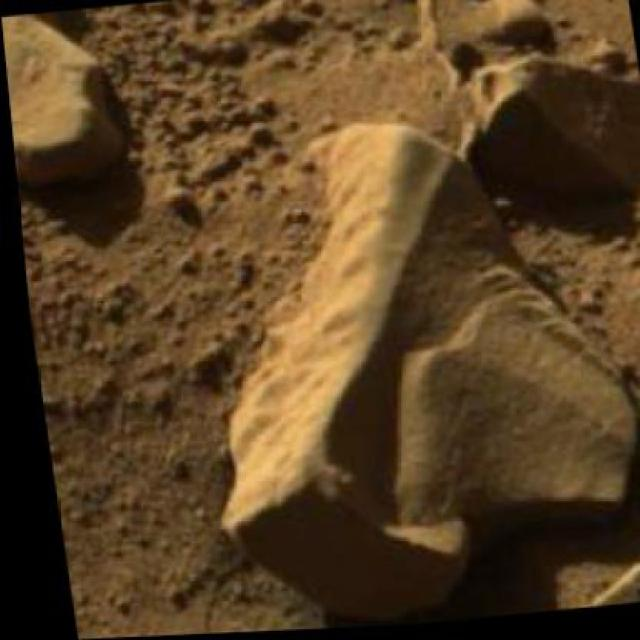rock: (152, 101, 638, 634), (1, 6, 139, 205)
